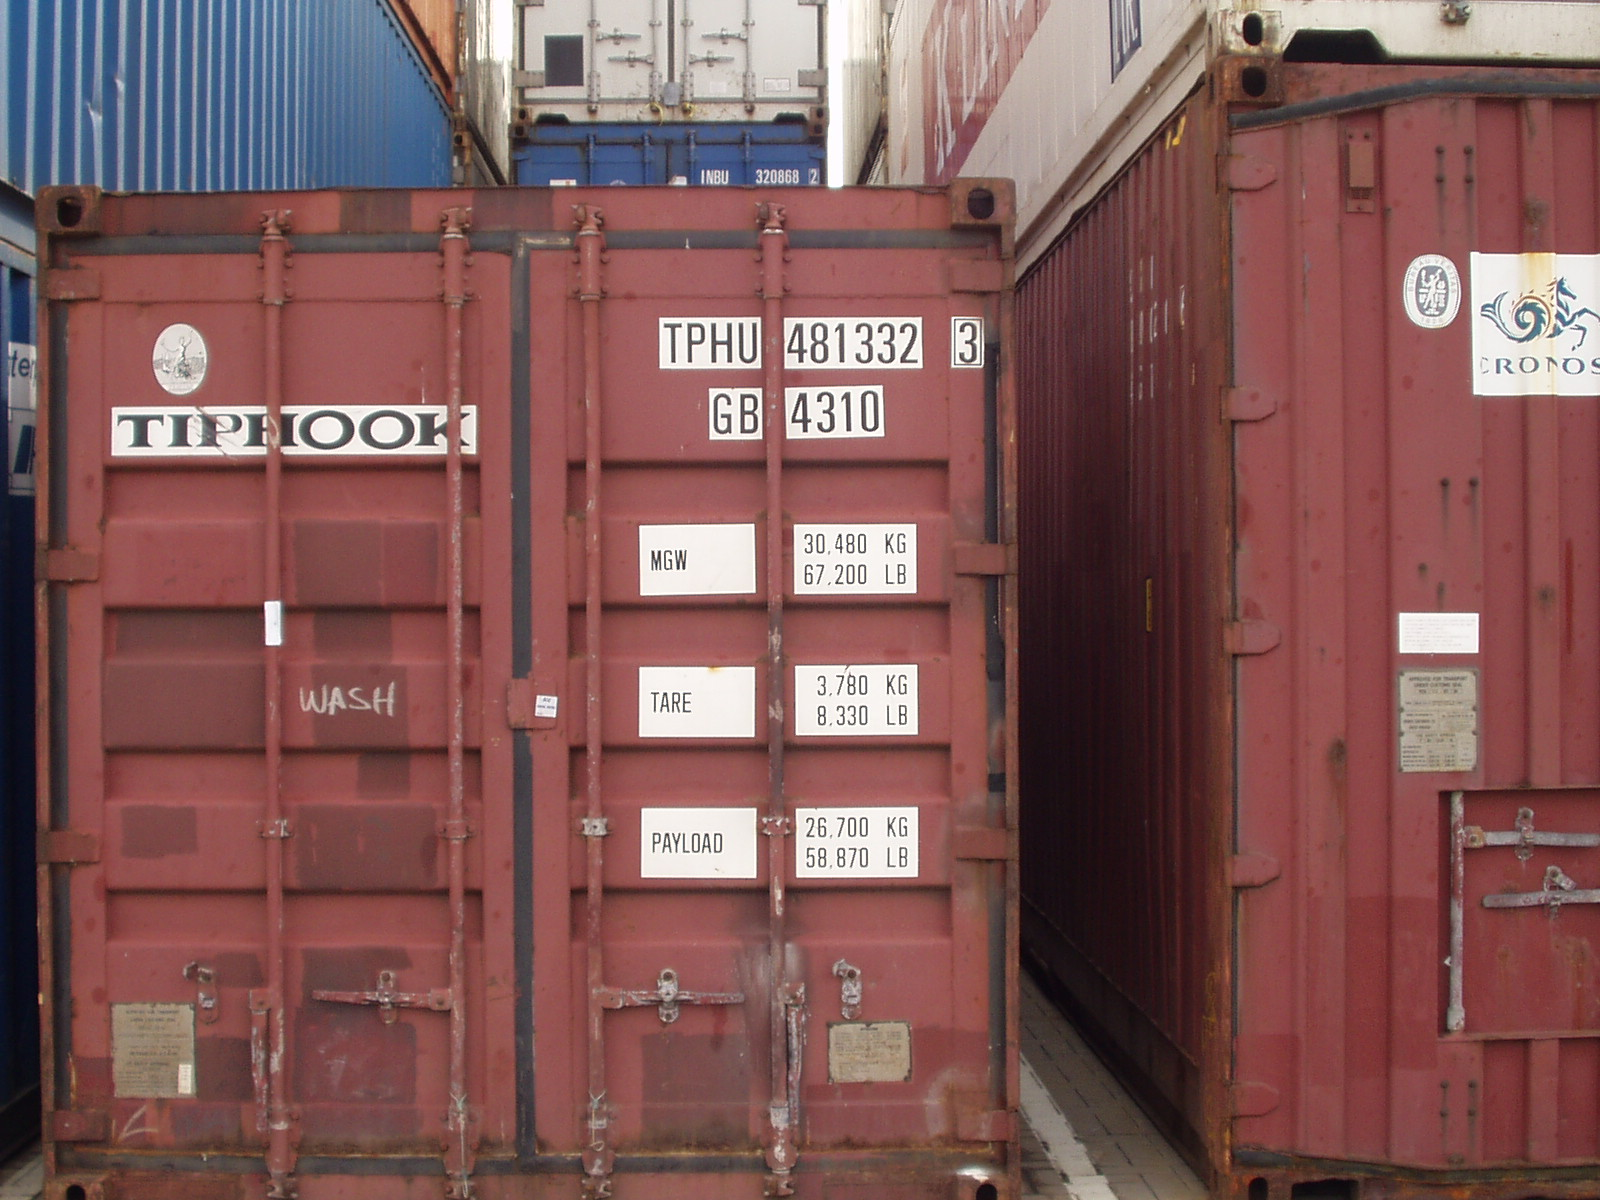container_door: (37, 184, 1032, 1200)
